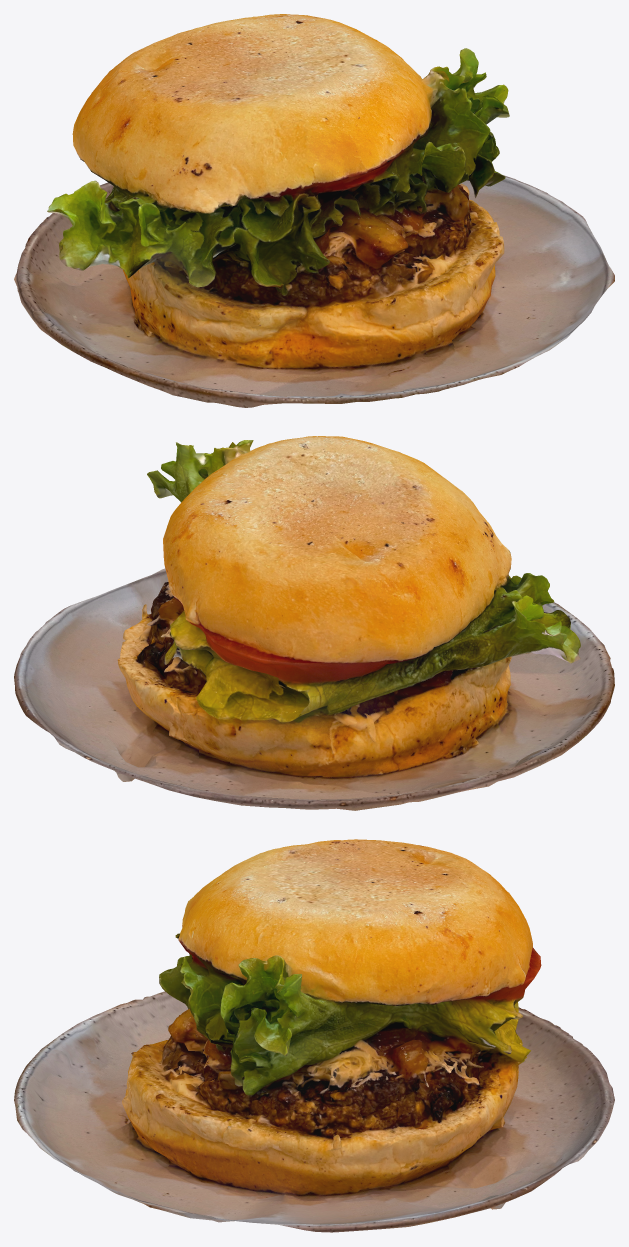
File: HamburLenteja.glb
The picture shows the model from 3 angles, top to bottom: view 1: azimuth 30°, elevation 25°; view 2: azimuth 150°, elevation 25°; view 3: azimuth 270°, elevation 25°; orthographic projection.
Parts seen in each view (by area): view 1: Hamburguesa_Lenteja; view 2: Hamburguesa_Lenteja; view 3: Hamburguesa_Lenteja.
Part boxes in pixels (x1=…): Hamburguesa_Lenteja: x1=14, y1=14, x2=614, y2=407; Hamburguesa_Lenteja: x1=14, y1=436, x2=614, y2=810; Hamburguesa_Lenteja: x1=14, y1=839, x2=614, y2=1232.
Bounding box in the file's own units: 81.88 × 41.03 × 81.7.
1 material, 1 textured.
